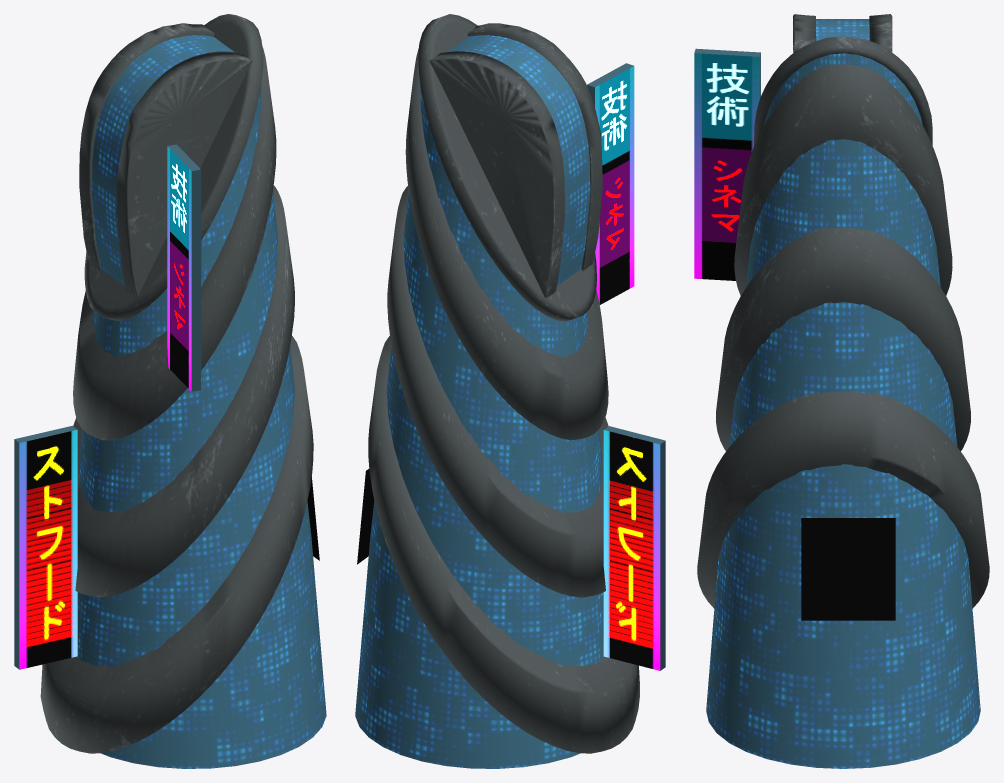
File: BLD1310022.fbx
3 views of the same model, side by side, from view 1: azimuth 30°, elevation 25°; view 2: azimuth 150°, elevation 25°; view 3: azimuth 270°, elevation 25° (orthographic). The views are drawn at different scales.
Visible parts, largest first — view 1: smBLD1310022; view 2: smBLD1310022; view 3: smBLD1310022.
Part boxes in pixels (left/top/right/bottom): smBLD1310022: left=14, top=14, right=326, bottom=768; smBLD1310022: left=355, top=14, right=665, bottom=768; smBLD1310022: left=694, top=14, right=989, bottom=768.
Bounding box in the file's own units: 1340 × 3002 × 1151.
3 materials, 2 textured.
